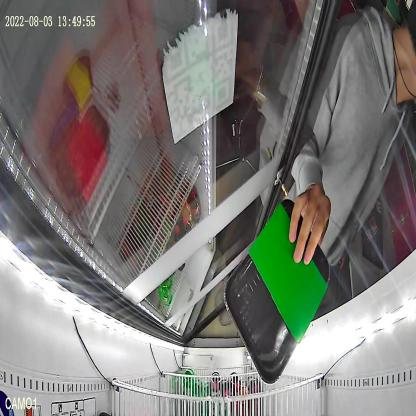green: (224, 200, 331, 385)
